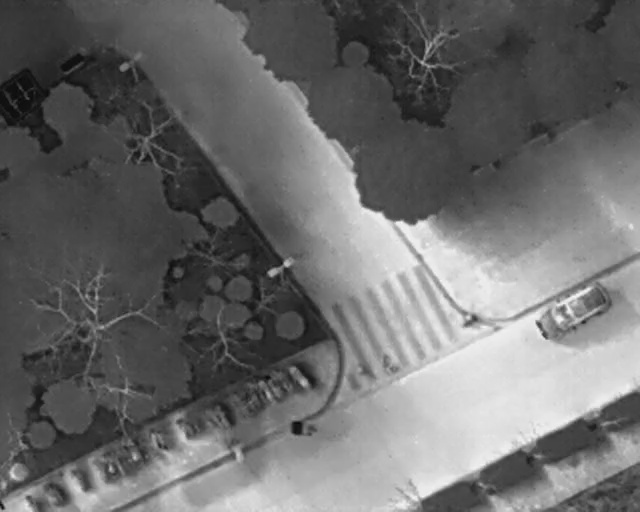Bicycle: (285, 362, 315, 398), (65, 460, 90, 494)
Car: (531, 276, 617, 344)
DontCare: (166, 362, 299, 448)
